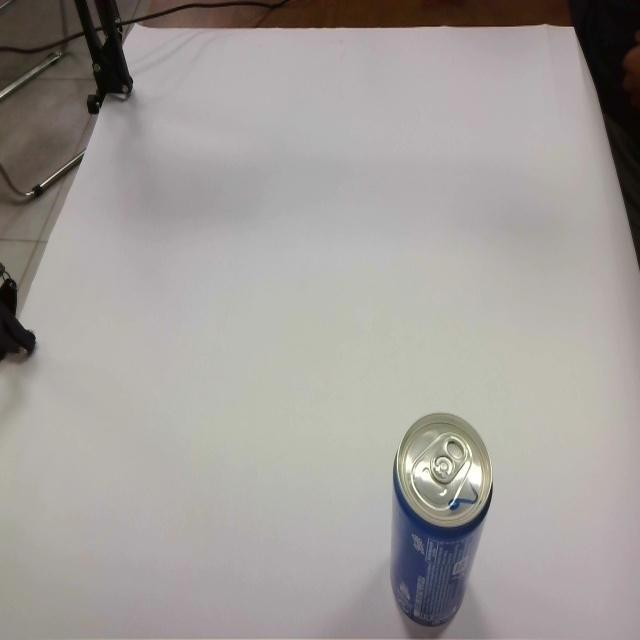debris: (389, 411, 494, 638)
